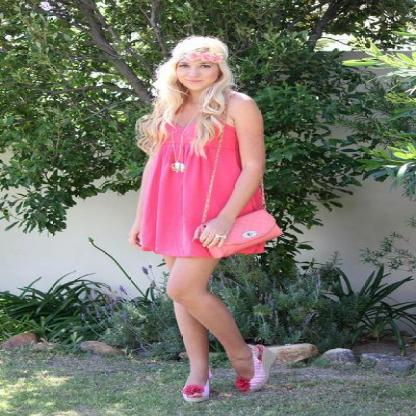bag: (207, 210, 283, 257)
dress: (144, 125, 265, 257)
shoe: (181, 345, 285, 404)
